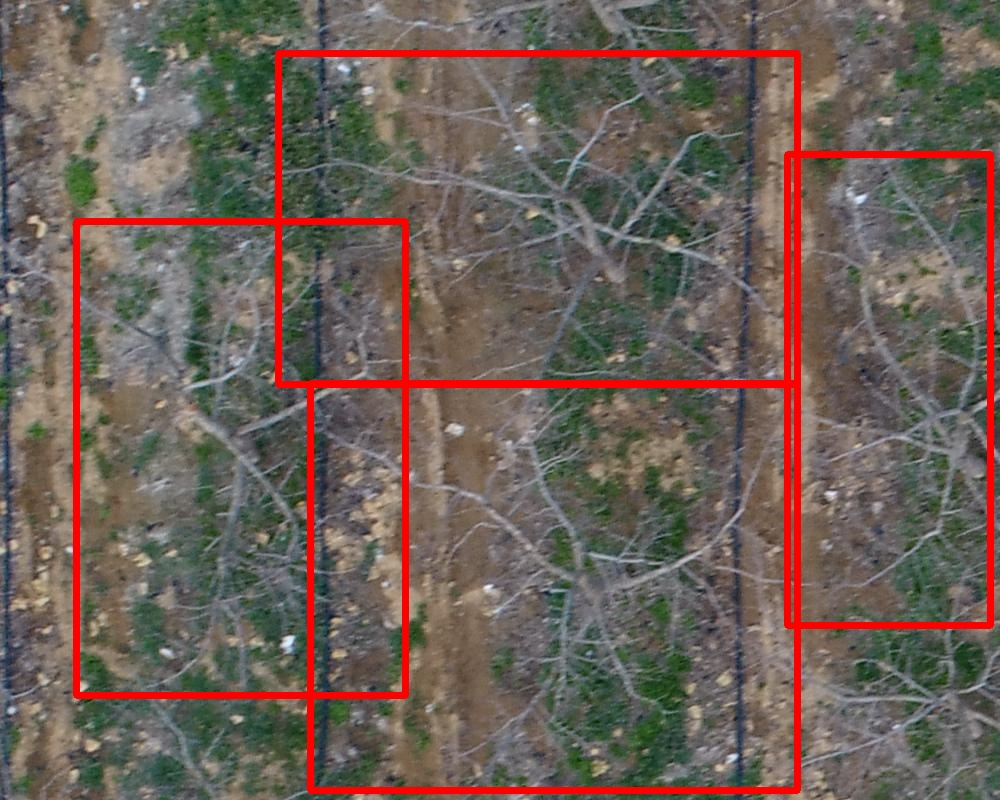apple: (310, 383, 797, 790), (278, 53, 797, 384), (76, 221, 405, 695), (787, 154, 990, 625)
